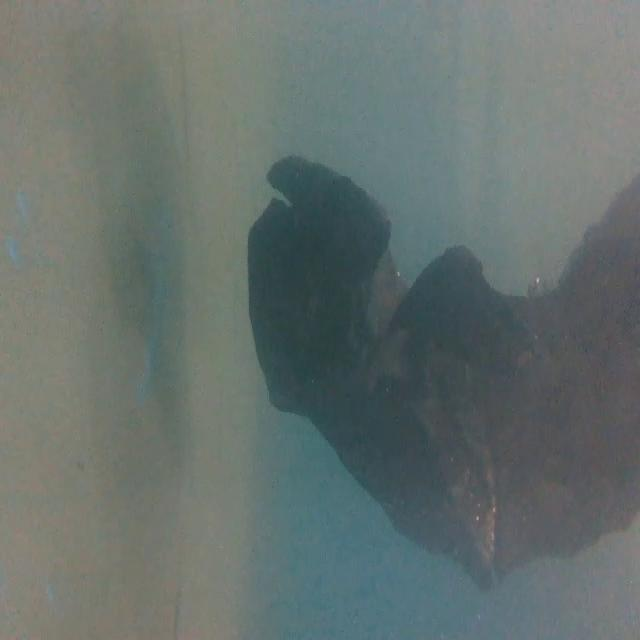plastic bags: (244, 148, 640, 589)
